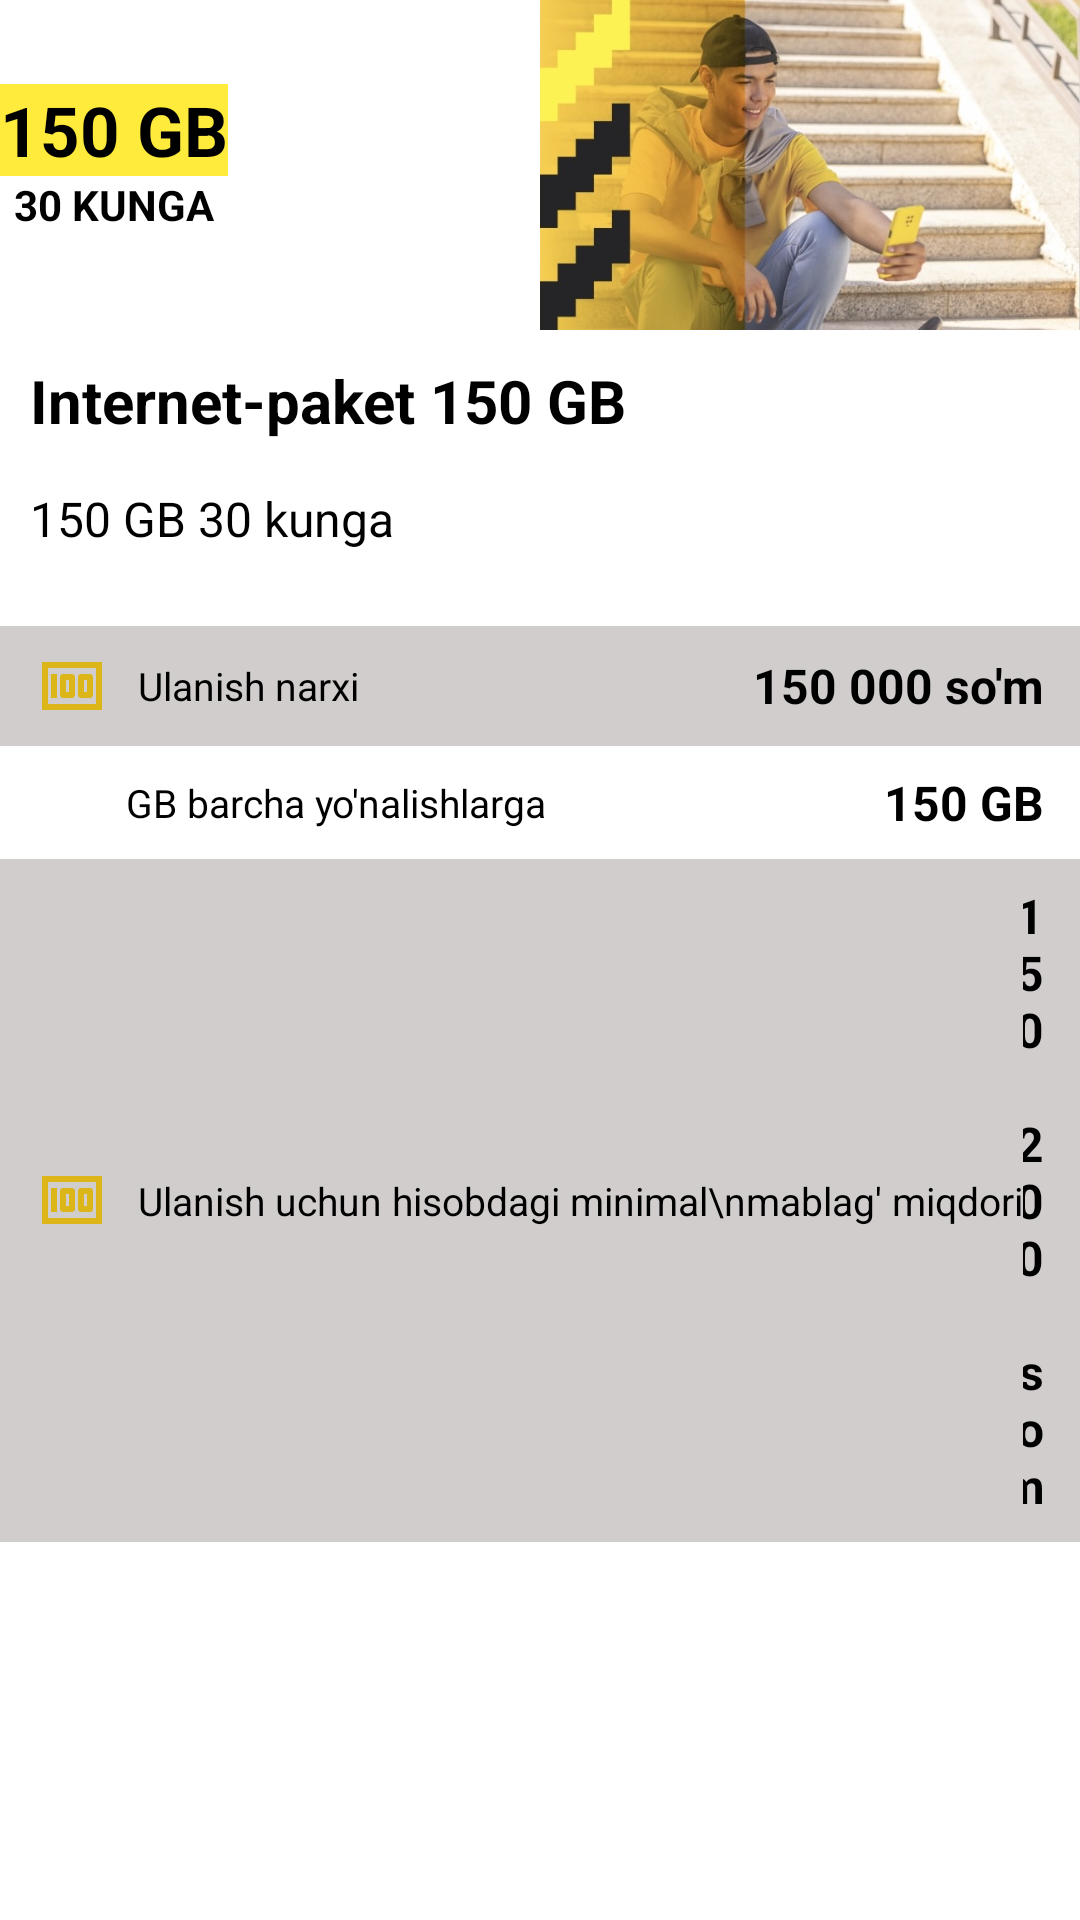

Point at icon controls on the screen. Image size 1080px x 1920px, points as [x,y].
money: [72,686], [72,1200]
